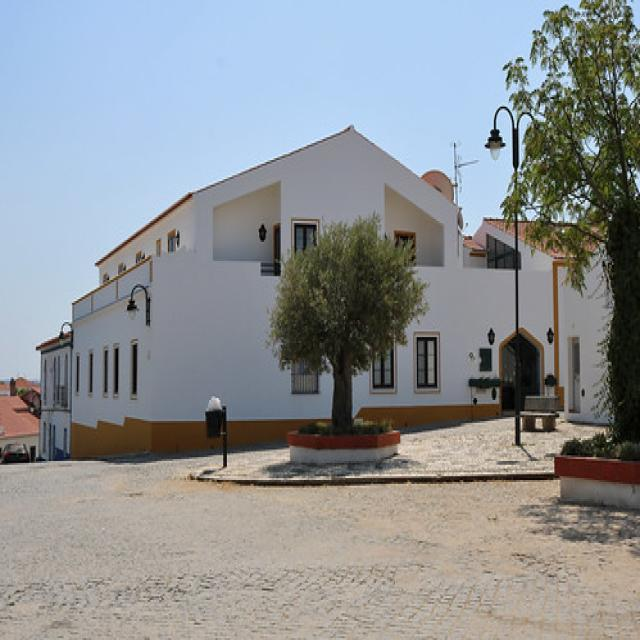building: (29, 118, 602, 465)
